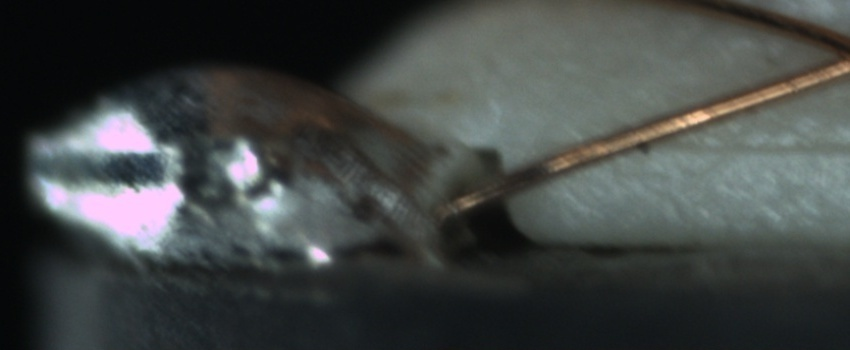CL: (804, 18, 850, 84)
DL: (632, 116, 850, 175)
